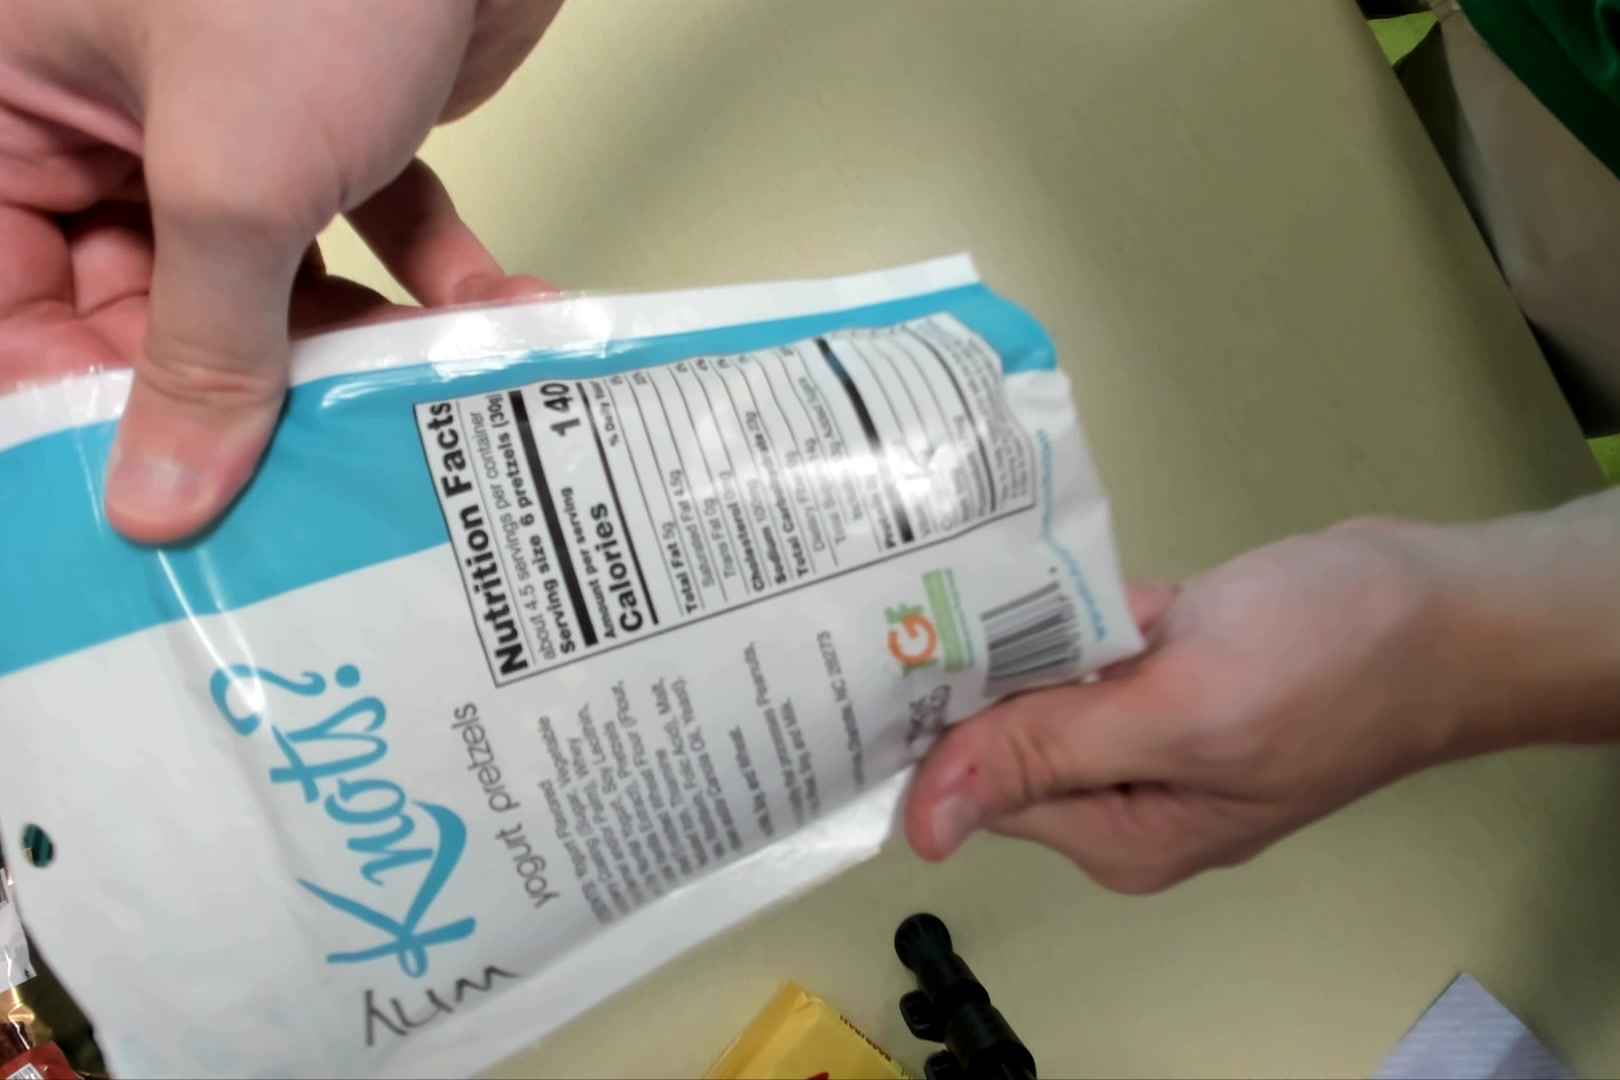SweetsChocolatesOthers_100-199g_NonHalal_NonHealthy: (5, 256, 1129, 1080)
